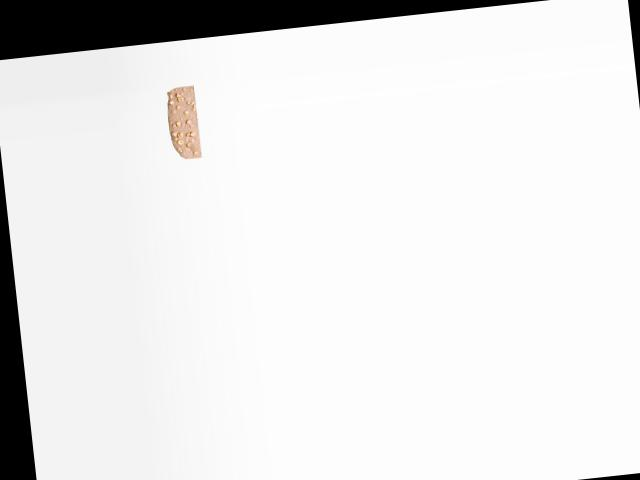chocolate: (159, 85, 205, 161)
